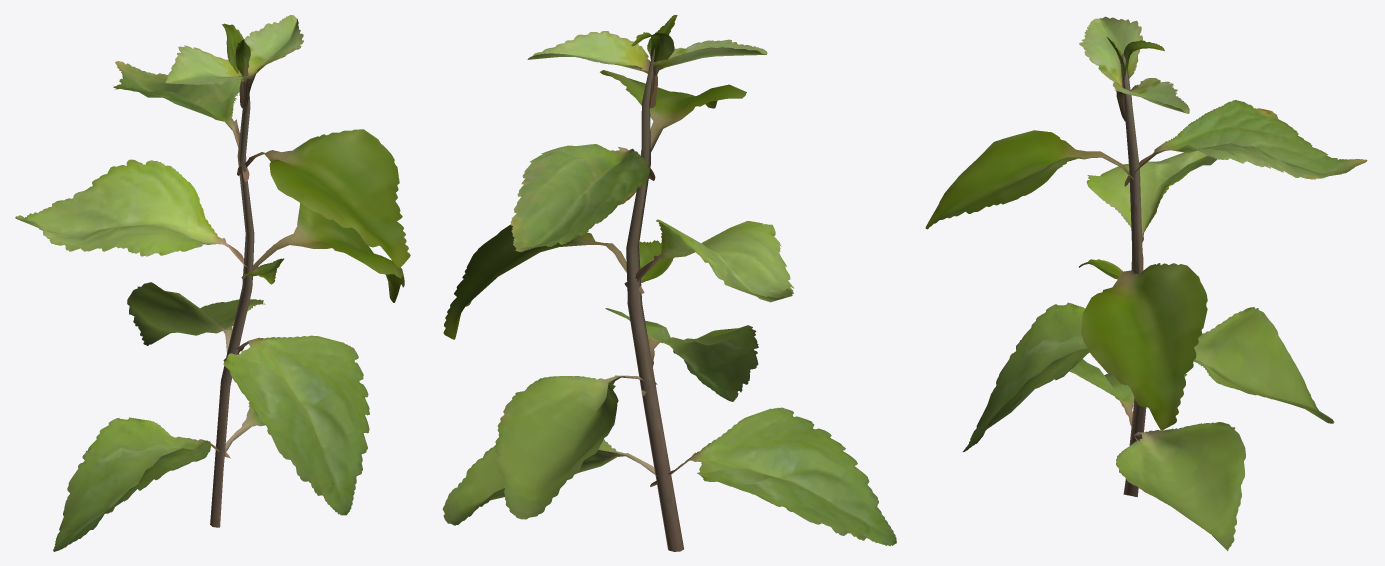
The picture shows the model from 3 angles, left to right: view 1: azimuth 30°, elevation 25°; view 2: azimuth 150°, elevation 25°; view 3: azimuth 270°, elevation 25°; orthographic projection. The views are drawn at different scales.
Visible parts, largest first — view 1: shrub_01__c_lod1; view 2: shrub_01__c_lod1; view 3: shrub_01__c_lod1.
Boxes of the visible parts, x1=… form: shrub_01__c_lod1: x1=15, y1=15, x2=410, y2=551; shrub_01__c_lod1: x1=442, y1=15, x2=896, y2=551; shrub_01__c_lod1: x1=925, y1=16, x2=1367, y2=550.
Size of the model in its own units: 0.0943 by 0.1159 by 0.1007.
Materials: 1 (1 with a texture image).
